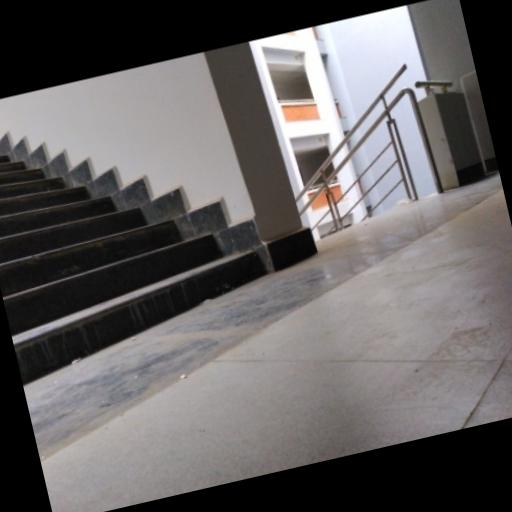stairs: (0, 155, 266, 385)
